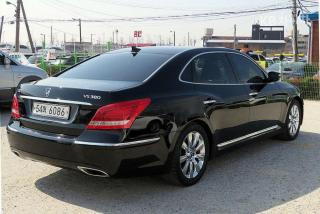0: (53, 107, 57, 115)
4: (39, 104, 43, 113)
5: (36, 104, 40, 113)
6: (49, 105, 53, 116), (61, 108, 66, 116)
8: (57, 107, 62, 116)
머: (42, 105, 48, 115)
